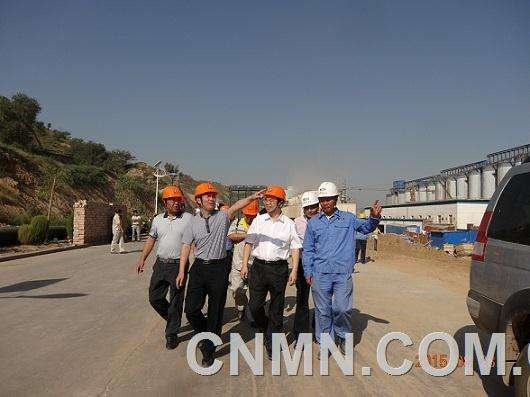white: (316, 179, 340, 216), (298, 188, 320, 220)
yellow: (192, 180, 222, 215), (260, 184, 288, 217), (159, 184, 186, 215), (240, 195, 262, 225)
